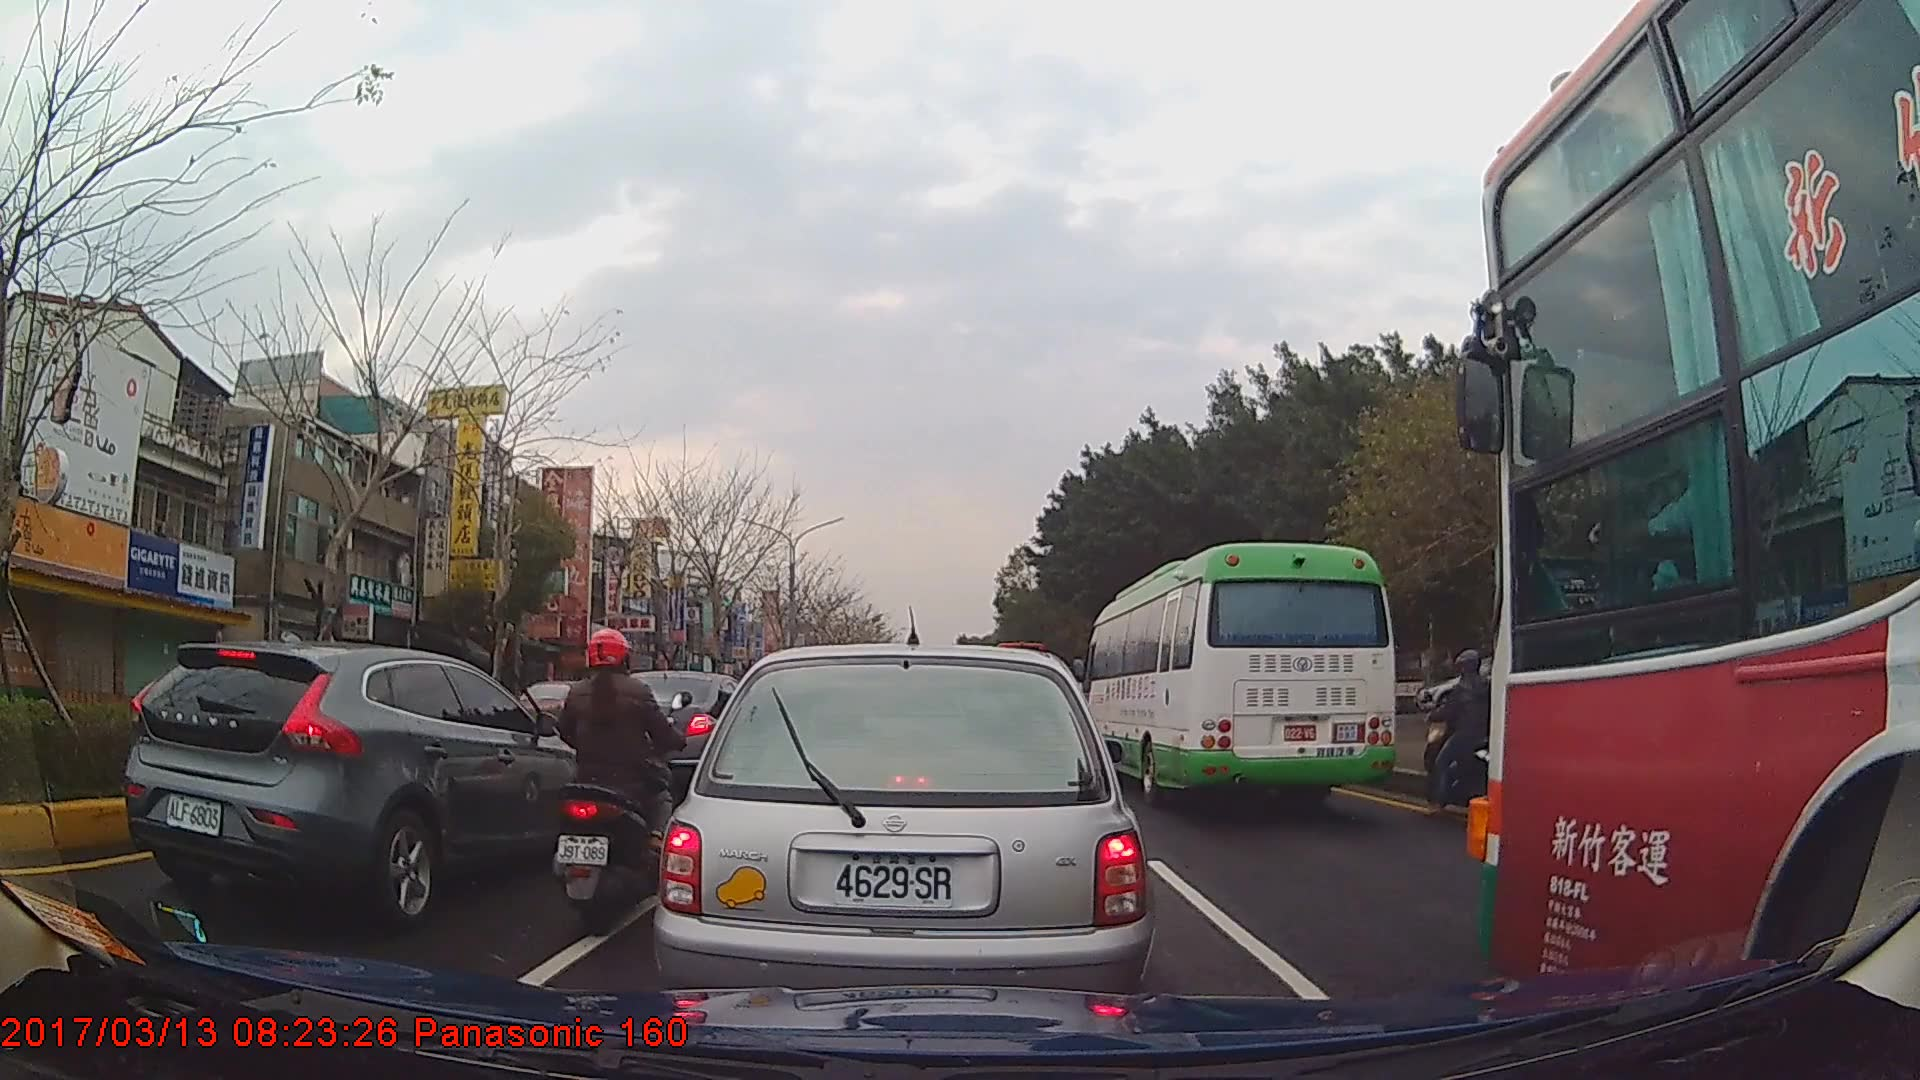rider: (556, 624, 694, 924), (1424, 650, 1518, 818)
vehicle: (1469, 0, 1920, 1036), (656, 642, 1157, 1037), (120, 643, 598, 921), (1082, 540, 1395, 809), (589, 669, 758, 790), (506, 677, 596, 731)
